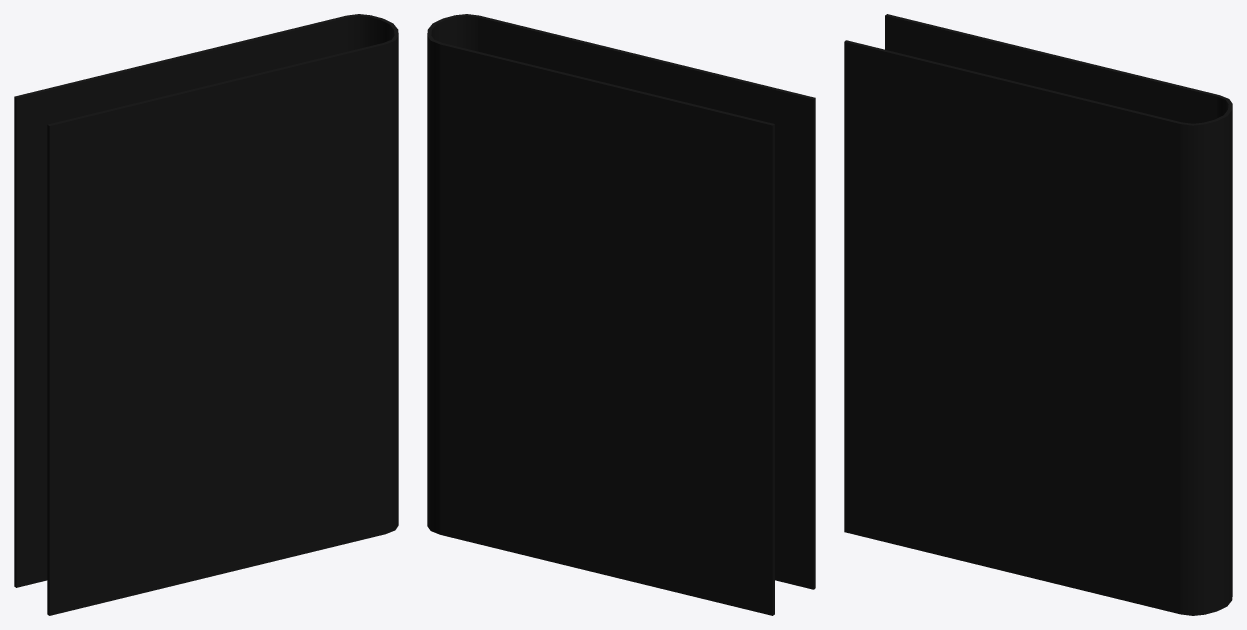
File: cover.obj
3 views of the same model, side by side, from view 1: azimuth 30°, elevation 25°; view 2: azimuth 150°, elevation 25°; view 3: azimuth 330°, elevation 25° (orthographic).
Size of the model in its own units: 0.0138 by 0.0178 by 0.0026.
1 material, 1 textured.
